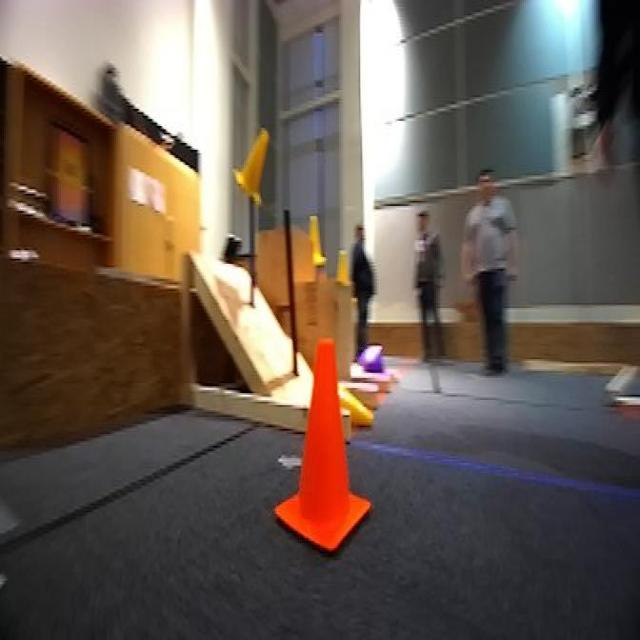frc_cone: (232, 128, 270, 208), (338, 385, 377, 427), (332, 242, 354, 291), (306, 212, 324, 270)
frc_cube: (354, 339, 388, 371)
